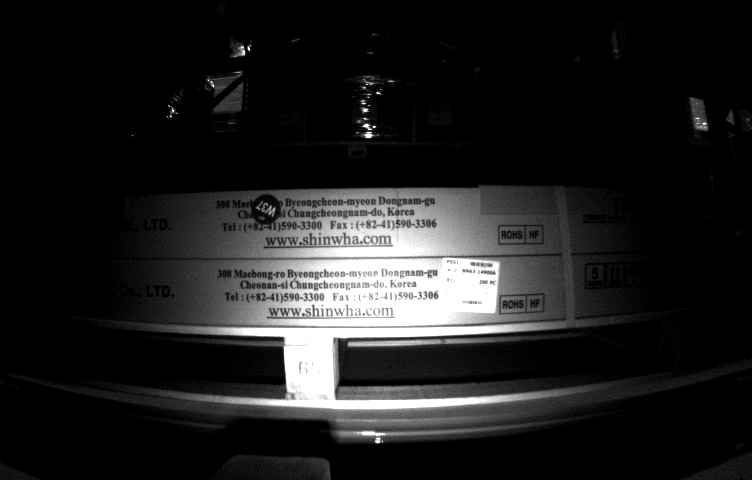True Barcode: (438, 256, 499, 312)
